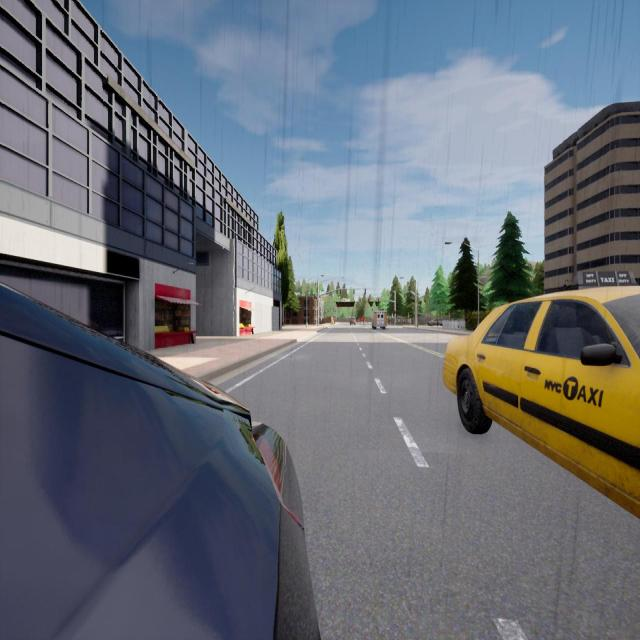Vehicle: (0, 286, 319, 640), (443, 286, 639, 517), (372, 310, 387, 330), (427, 319, 443, 326), (350, 317, 356, 325), (359, 316, 365, 324)
traffic_light: (365, 289, 366, 294), (340, 290, 341, 294), (404, 294, 405, 298), (314, 295, 315, 299), (316, 296, 317, 300), (395, 310, 396, 314), (315, 296, 316, 298), (411, 294, 412, 296), (354, 289, 354, 294), (408, 294, 408, 297)
